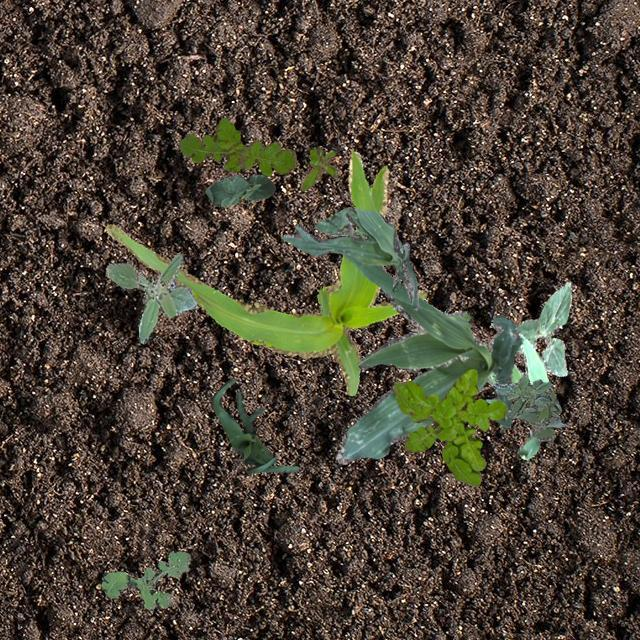crop: (104, 148, 426, 394), (334, 252, 522, 463), (281, 208, 418, 310), (482, 332, 548, 458), (210, 378, 298, 472), (514, 280, 570, 376), (314, 206, 402, 252), (204, 173, 274, 206)
weed: (392, 368, 506, 486), (106, 252, 196, 342), (178, 116, 296, 174), (100, 550, 190, 608), (492, 376, 562, 440), (300, 146, 336, 190)
